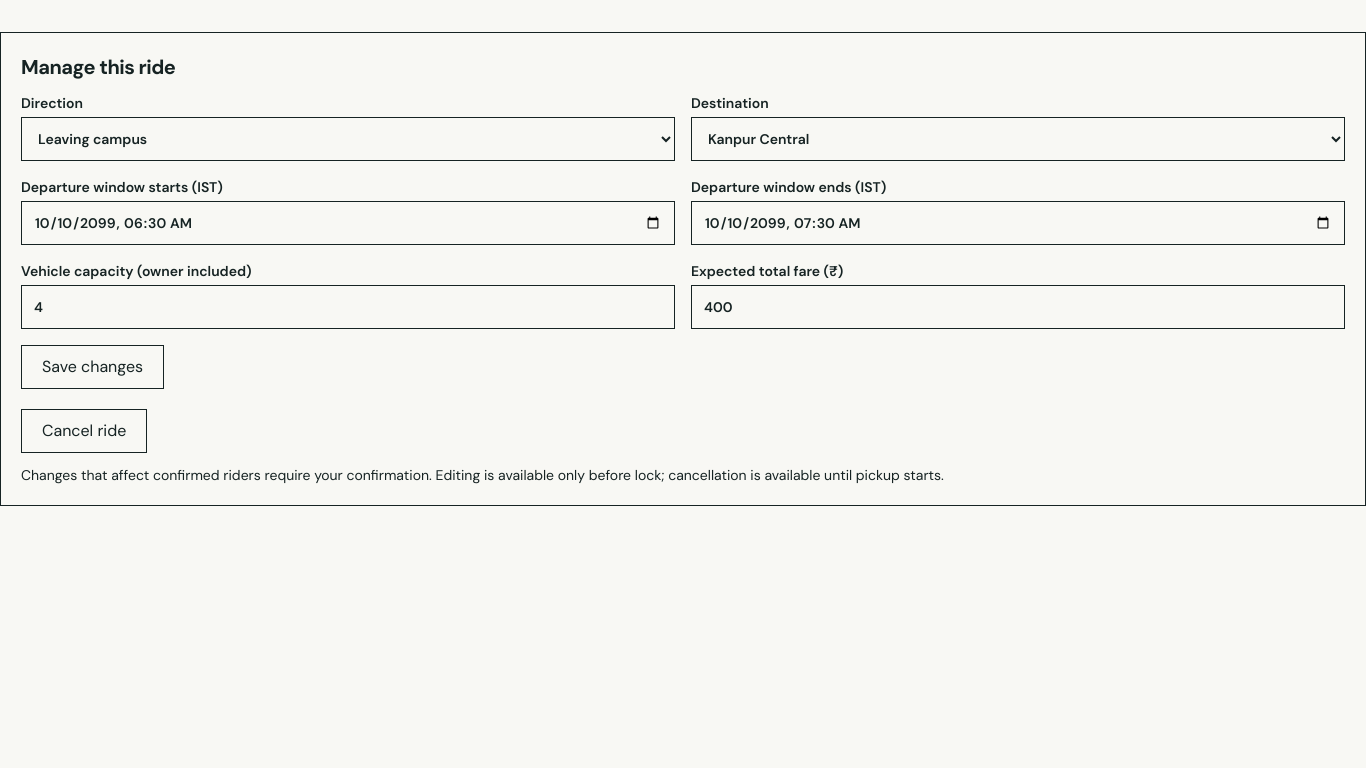
Test: RideManagementControls › cancels only after the owner confirms and refreshes the page
This screenshot has width=1366, height=768.
Click the button "Cancel ride". click: (84, 431)
box: [21,409,147,453]
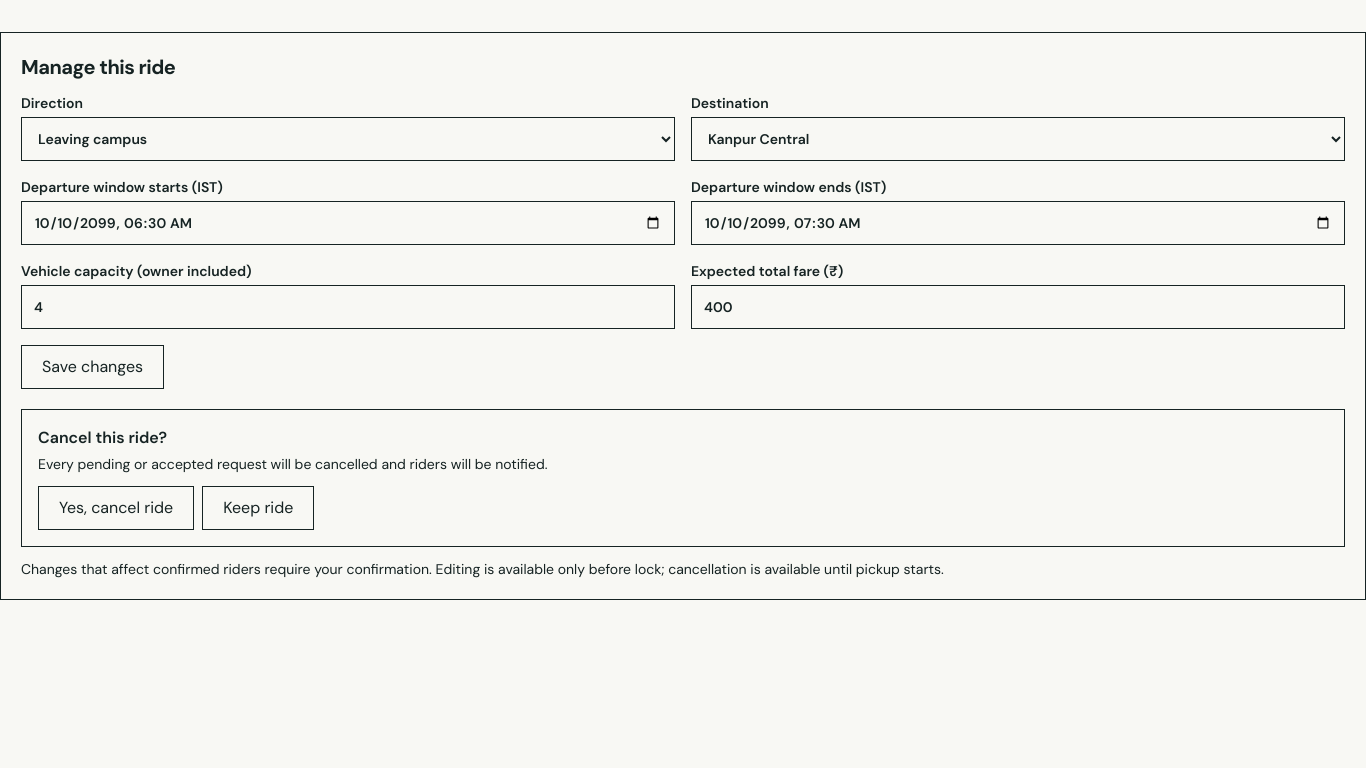
Now the text "Cancel this ride?" is shown, box [38,427,167,448]
Click the button "Yes, cancel ride". click: (116, 508)
box: [38,486,194,530]
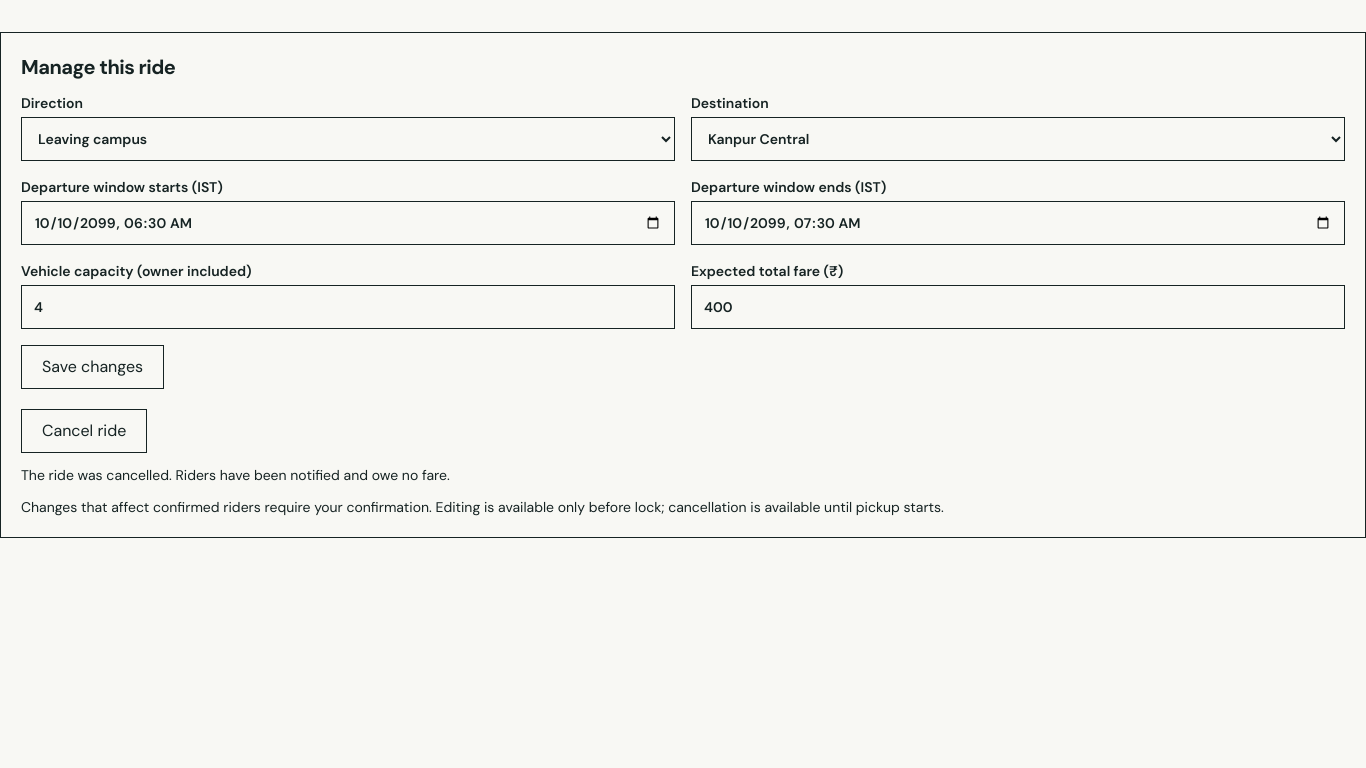
Now the message shows "The ride was cancelled.", box [21,466,450,484]
